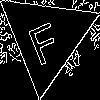F: (21, 12, 65, 67)
